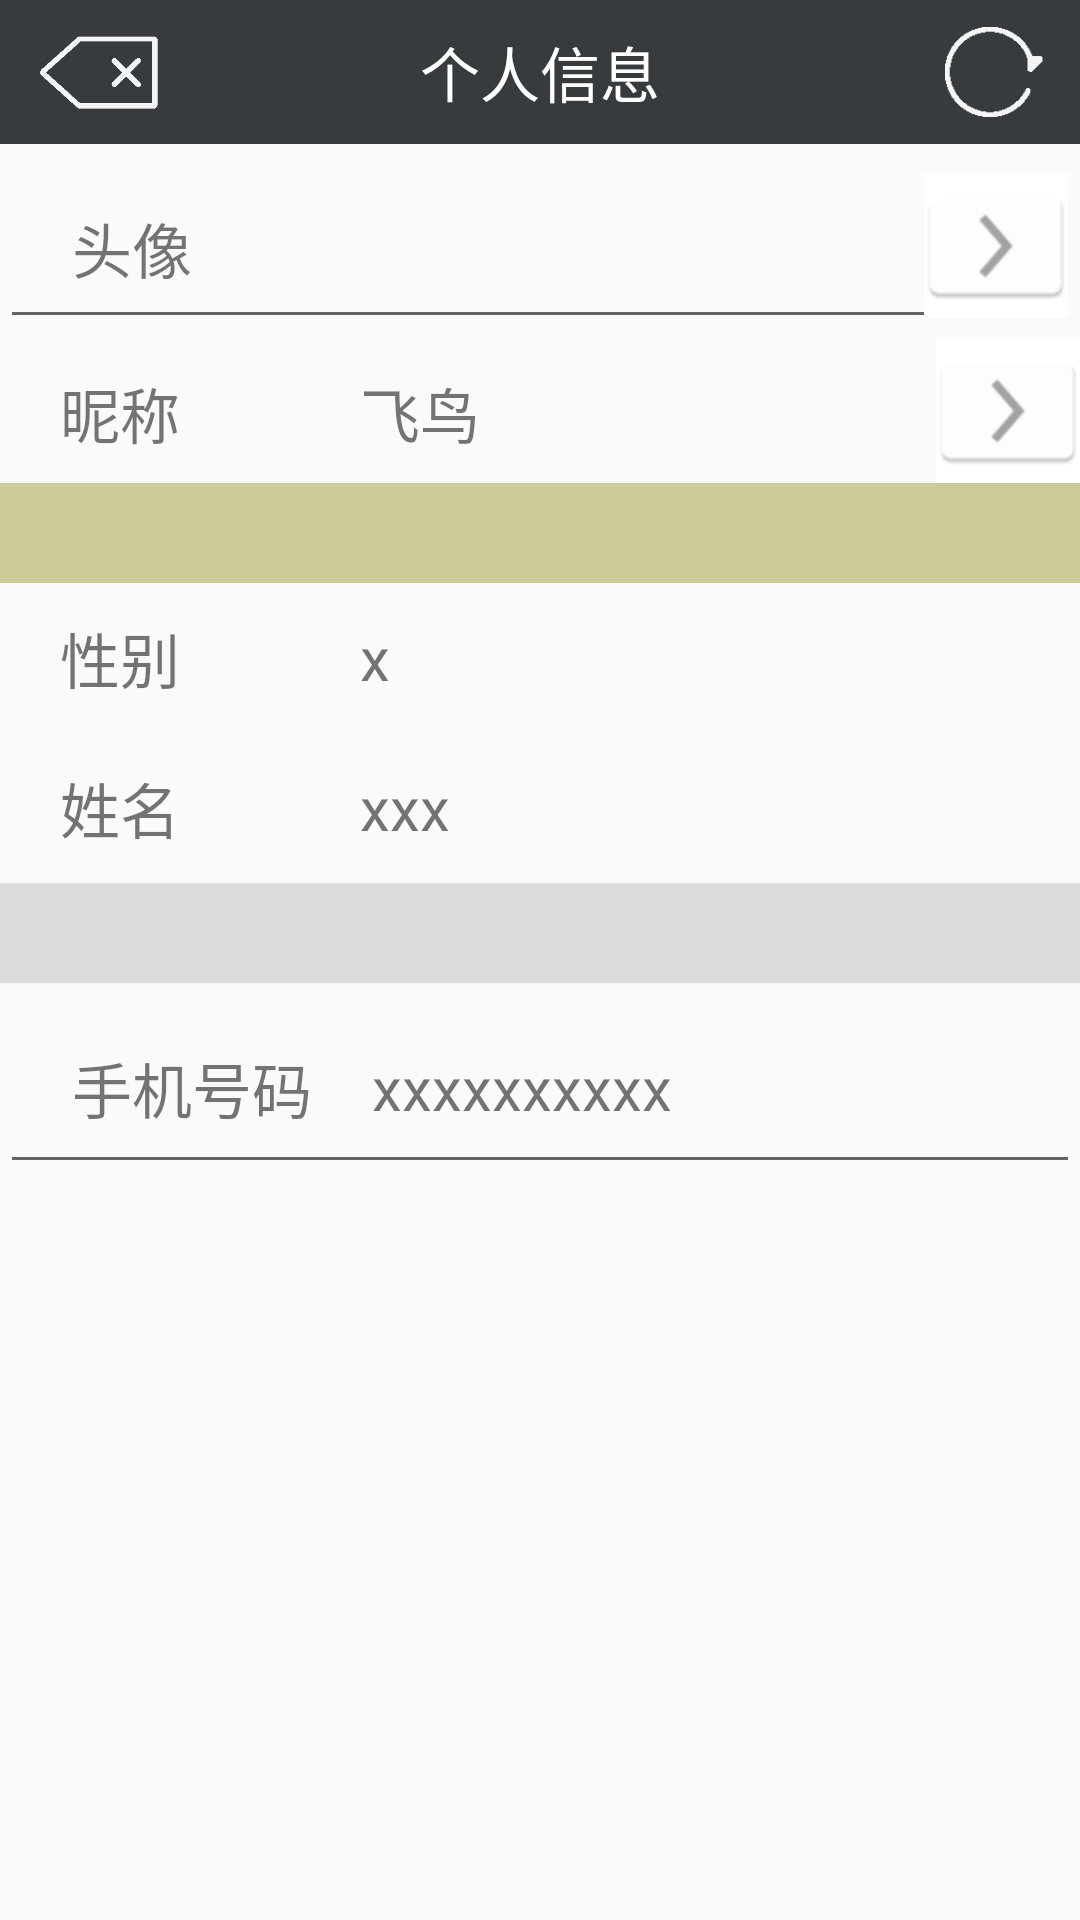

Named icons in this screenshot (1080x1920) and their centers, point (x, y):
shuaxin: point (994, 72)
wo right: point (996, 256), point (1008, 421)
